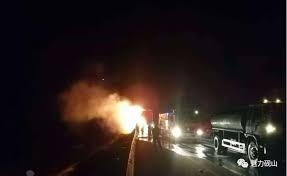fire: (112, 97, 151, 136)
